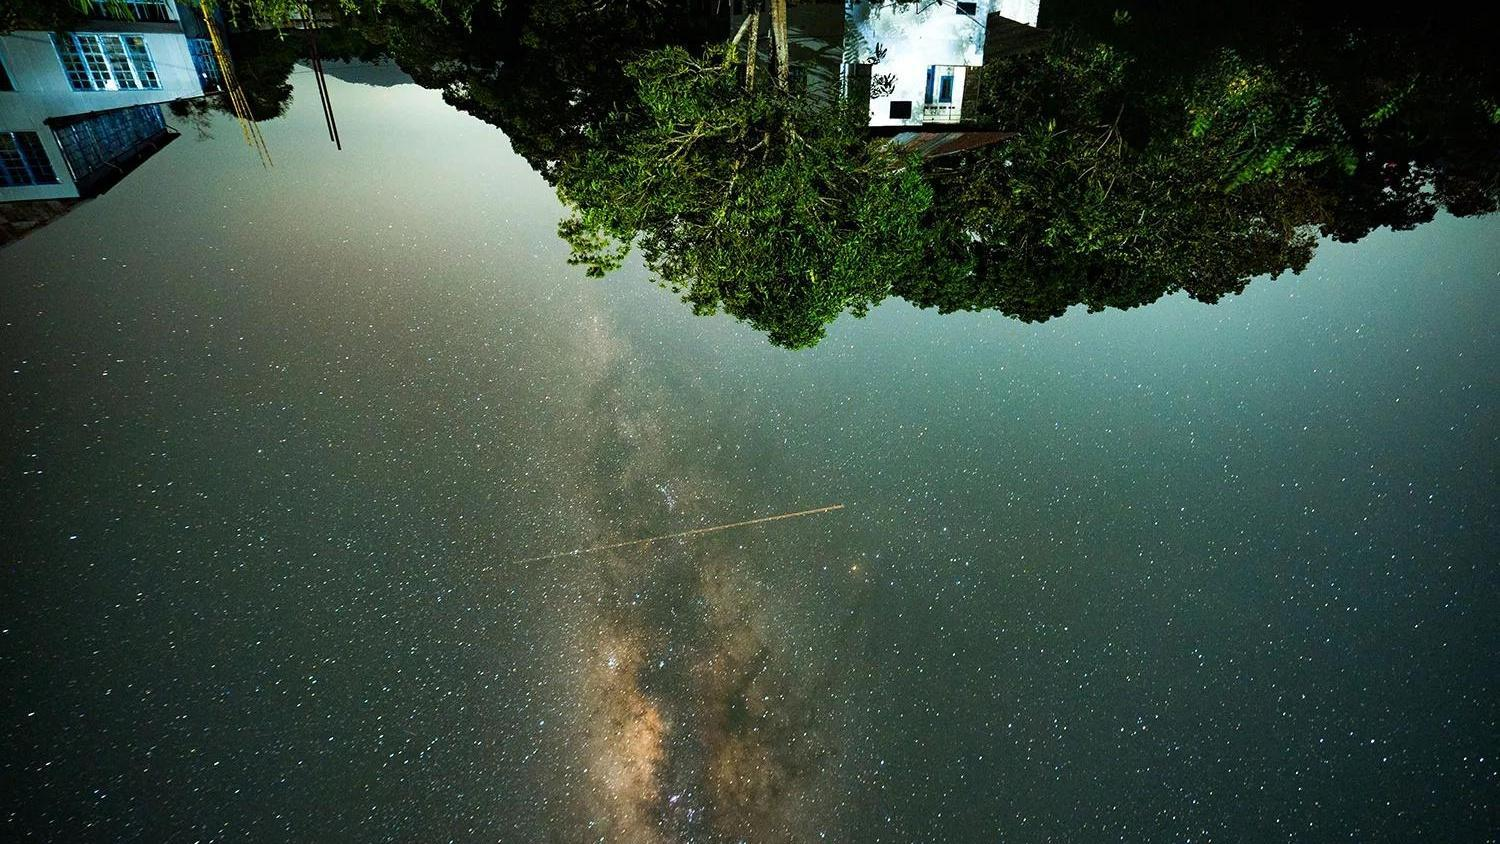meteorite: (655, 501, 862, 545)
